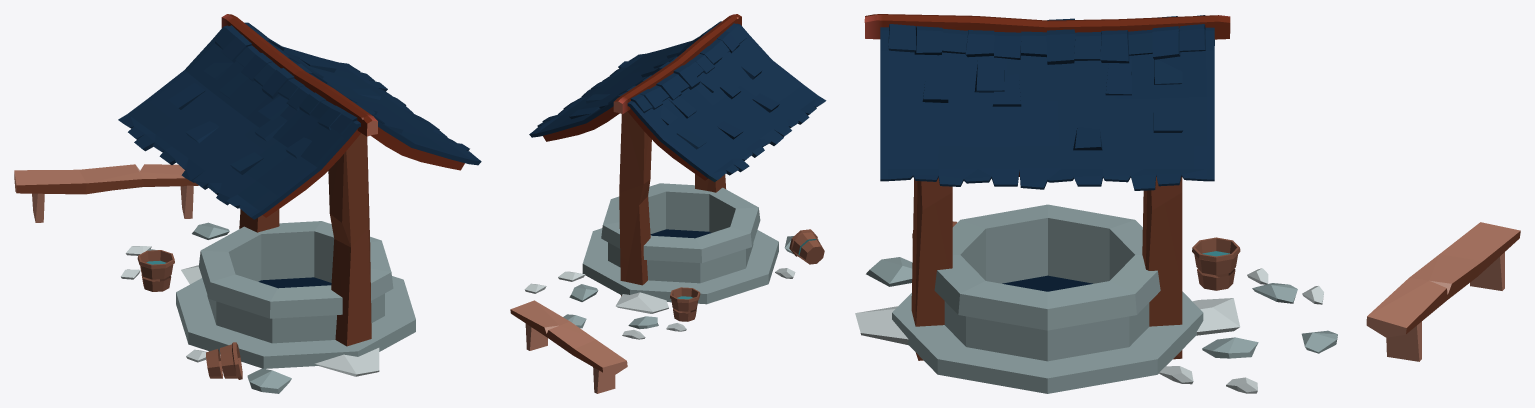
File: SM_Waterhole_LODS_Group.fbx
3 renders of one model, left to right at view 1: azimuth 30°, elevation 25°; view 2: azimuth 150°, elevation 25°; view 3: azimuth 270°, elevation 25°, orthographic. The views are drawn at different scales.
Visible parts, largest first — view 1: SM_Waterhole_LOD0; view 2: SM_Waterhole_LOD0; view 3: SM_Waterhole_LOD0.
Part boxes in pixels (x1,y1,x2,y2): SM_Waterhole_LOD0: [14, 14, 481, 393]; SM_Waterhole_LOD0: [510, 14, 826, 393]; SM_Waterhole_LOD0: [855, 14, 1520, 393].
Size of the model in its own units: 209 by 371 by 209.
